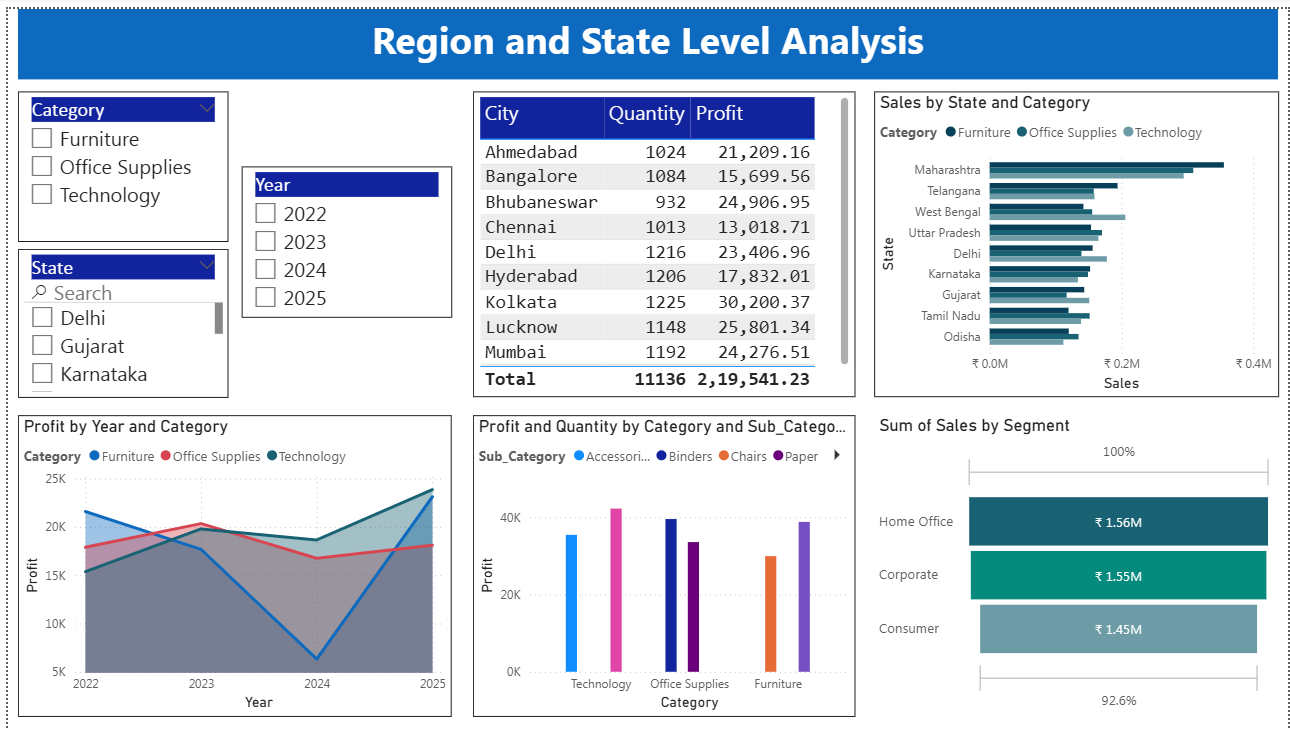

This screenshot's page, from the dashboard's own definition file:
{"tool":"powerbi","page":{"name":"Region and State","canvas":[1280,720],"ordinal":1},"visuals":[{"type":"textbox","box":[10,0,1260.1,70],"z":0},{"type":"slicer","fields":{"Values":["Order.Category"]},"box":[10.3,82.4,210.3,150],"z":1000},{"type":"slicer","fields":{"Values":["Order.State"]},"box":[10.3,239.7,210.3,148.5],"z":2000},{"type":"slicer","fields":{"Values":["Order.Year"]},"box":[233.8,157.4,210.3,151.5],"z":3000},{"type":"tableEx","fields":{"Values":["Order.City","Sum(Order.Quantity)","Sum(Order.Profit)"]},"box":[464.7,82.4,382.4,305.9],"z":4000},{"type":"clusteredBarChart","fields":{"Category":["Order.State"],"Series":["Order.Category"],"Y":["Sum(Order.Sales)"]},"box":[866.2,82.4,404.4,305.9],"z":5000},{"type":"areaChart","fields":{"Category":["Order.Year"],"Y":["Sum(Order.Profit)"],"Series":["Order.Category"]},"box":[10.3,405.9,433.8,301.5],"z":6000},{"type":"lineClusteredColumnComboChart","fields":{"Category":["Order.Category"],"Series":["Order.Sub_Category"],"Y":["Sum(Order.Profit)"]},"box":[464.7,405.9,382.4,301.5],"z":7000},{"type":"funnel","fields":{"Category":["Order.Segment"],"Y":["Sum(Order.Sales)"]},"box":[866,406,404,301],"z":8000}]}

Visuals, with their boxes in screenshot pixels (x1, y1, x2, y2), scaled from the page's 1280x720 canvas onto the 1290x729 screenshot:
textbox: (10,0,1280,71)
slicer - Order.Category: (10,83,222,235)
slicer - Order.State: (10,243,222,393)
slicer - Order.Year: (236,159,448,313)
tableEx - Order.City x Sum(Order.Quantity): (468,83,854,393)
clusteredBarChart - Order.State x Order.Category: (873,83,1281,393)
areaChart - Order.Year x Sum(Order.Profit): (10,411,448,716)
lineClusteredColumnComboChart - Order.Category x Order.Sub_Category: (468,411,854,716)
funnel - Order.Segment x Sum(Order.Sales): (873,411,1280,716)
